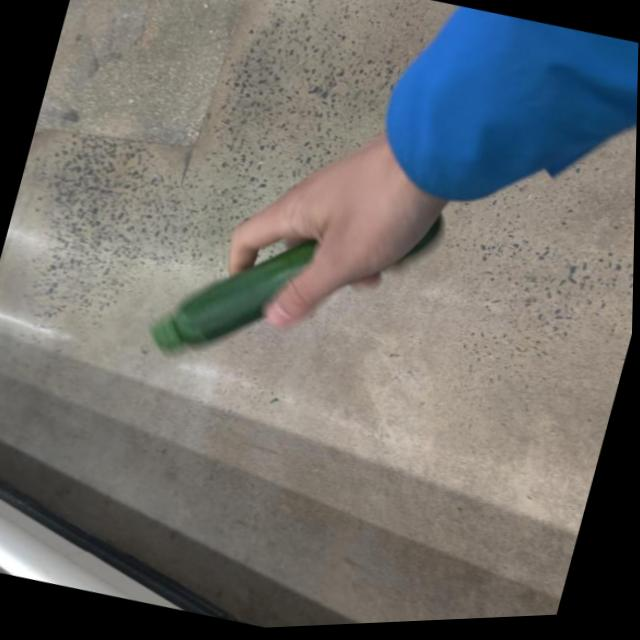Meat: (142, 147, 450, 412)
